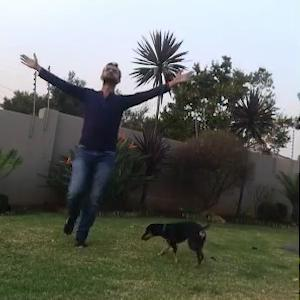takeoff: (24, 64, 168, 230)
